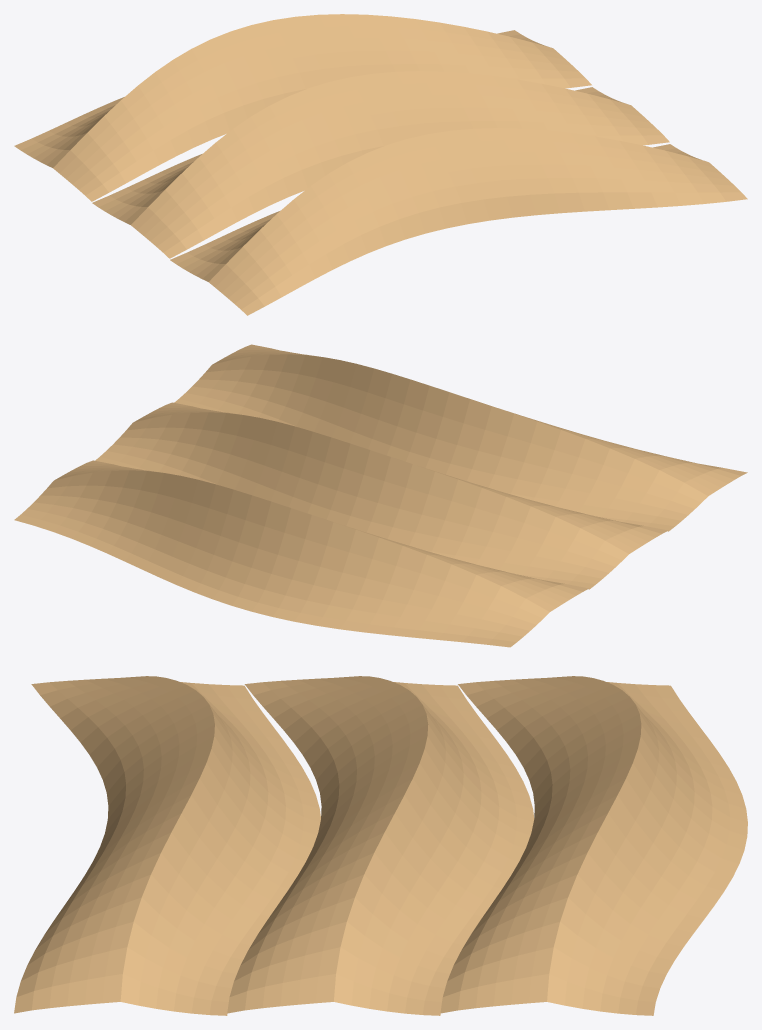
Rendered from FEATURE_DUNES_v02.fbx.
3 views of the same model, one above another, from view 1: azimuth 30°, elevation 25°; view 2: azimuth 150°, elevation 25°; view 3: azimuth 270°, elevation 25° (orthographic). The views are drawn at different scales.
Parts seen in each view (by area): view 1: Wind_sculpted_dune.006, Wind_sculpted_dune.007, Wind_sculpted_dune.008; view 2: Wind_sculpted_dune.008, Wind_sculpted_dune.007, Wind_sculpted_dune.006; view 3: Wind_sculpted_dune.008, Wind_sculpted_dune.007, Wind_sculpted_dune.006.
Boxes of the visible parts, x1,y1,x2,y2 form: Wind_sculpted_dune.006: (170,128,747,315); Wind_sculpted_dune.007: (92,71,669,258); Wind_sculpted_dune.008: (14,14,591,201); Wind_sculpted_dune.008: (14,460,589,647); Wind_sculpted_dune.007: (95,402,668,589); Wind_sculpted_dune.006: (174,344,747,531); Wind_sculpted_dune.008: (440,676,747,1015); Wind_sculpted_dune.007: (227,676,534,1015); Wind_sculpted_dune.006: (14,676,320,1015).
Size of the model in its own units: 132 by 18.99 by 124.
